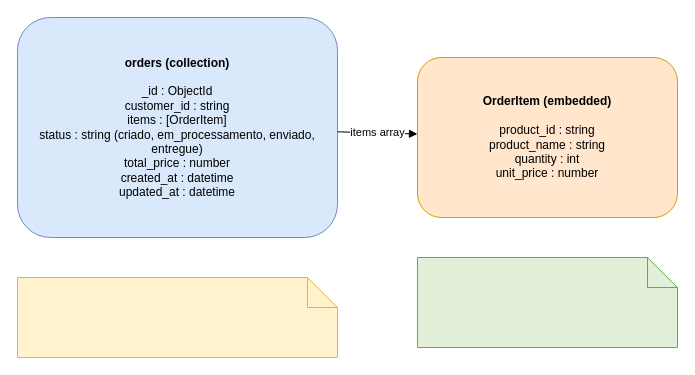
The diagram is 695 pixels wide and 375 high, and some of its shapes have lost their labels. Each missing label, with the centre of its shape:
On status change: publish event to RabbitMQ (not stored in MongoDB): point (547, 302)
status transitions: criado → em_processamento → enviado → entregue: point (177, 317)
